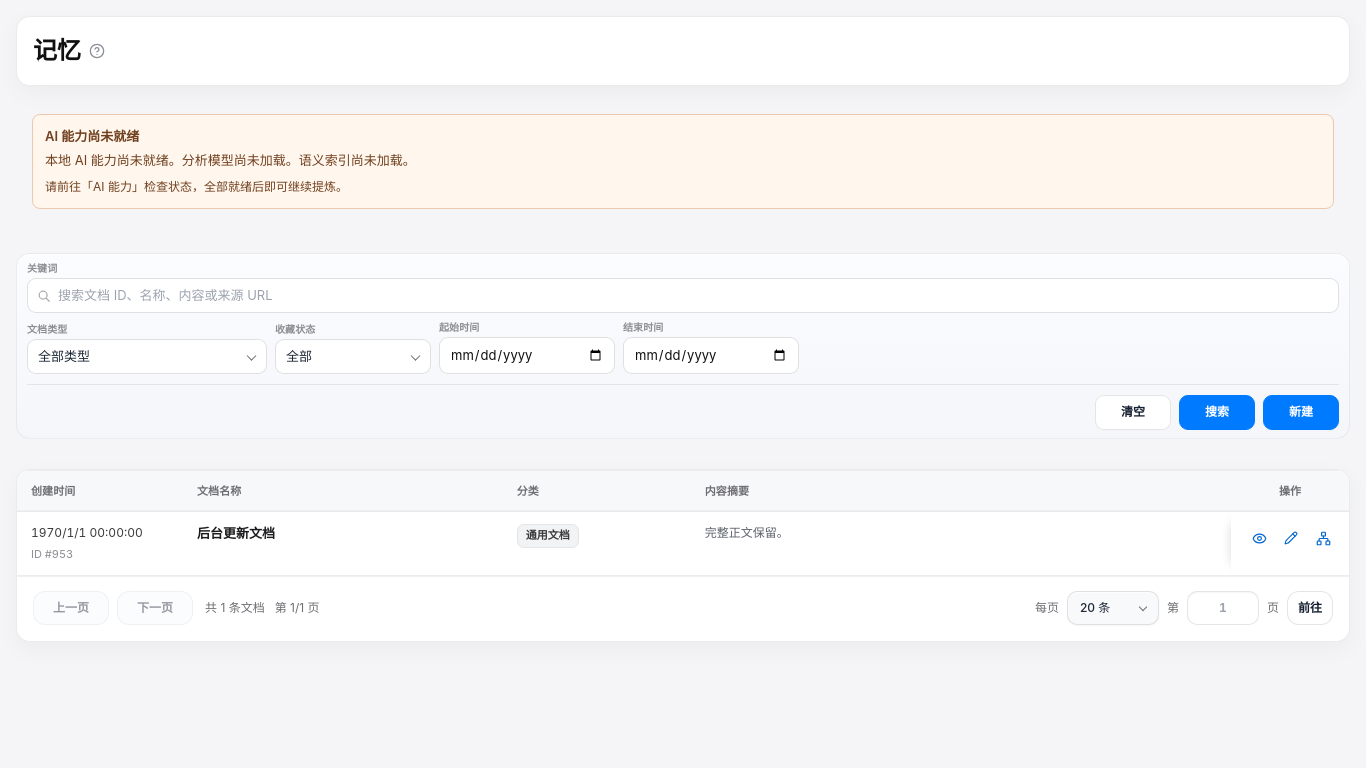
Test case: 显式搜索交互 › 相同筛选条件再次搜索文档会读取后台更新后的状态
The image size is (1366, 768).
Click the button named "查看文档「后台更新文档」详情" at (1259, 538), box x1=1245 y1=524 x2=1273 y2=552
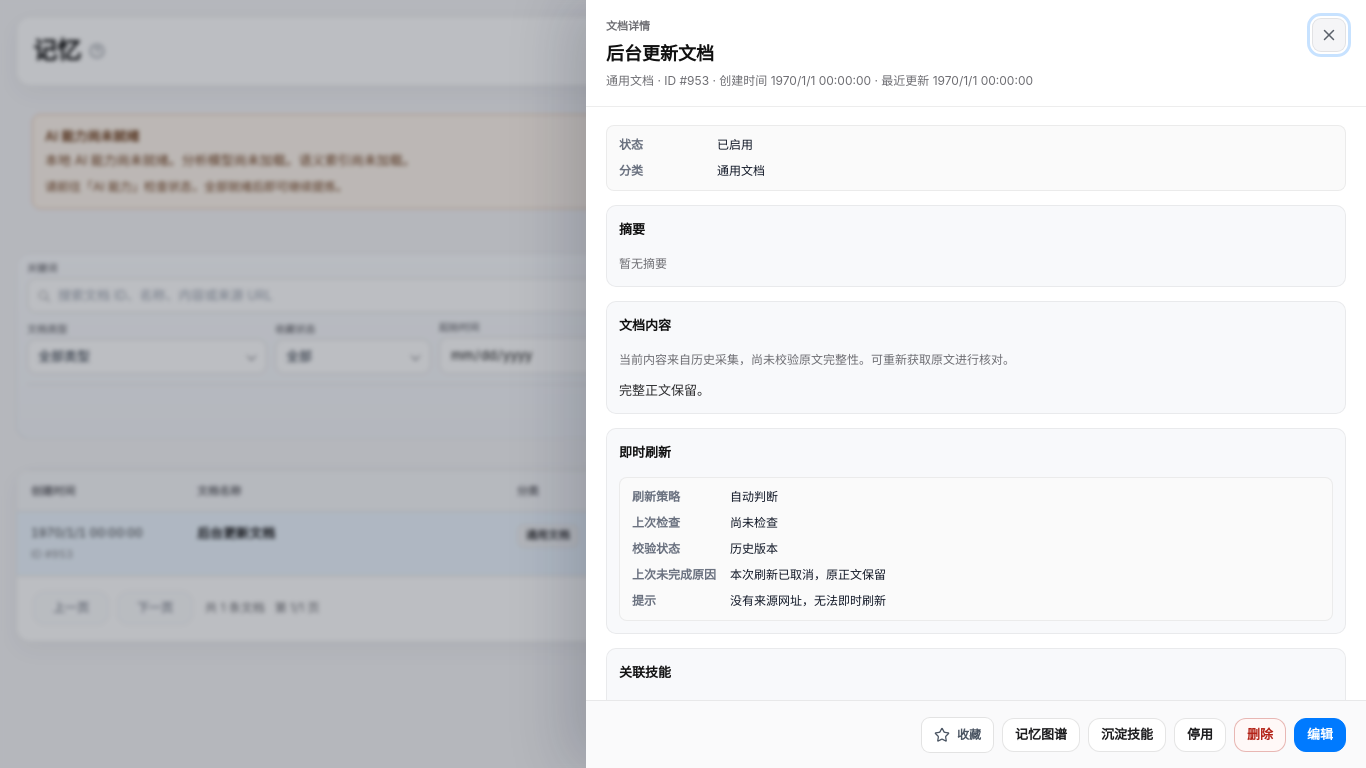
Now the text "本次刷新已取消，原正文保留" is shown, box x1=730 y1=567 x2=886 y2=582
Click the button named "关闭文档详情" at (1329, 35), box x1=1312 y1=18 x2=1346 y2=52
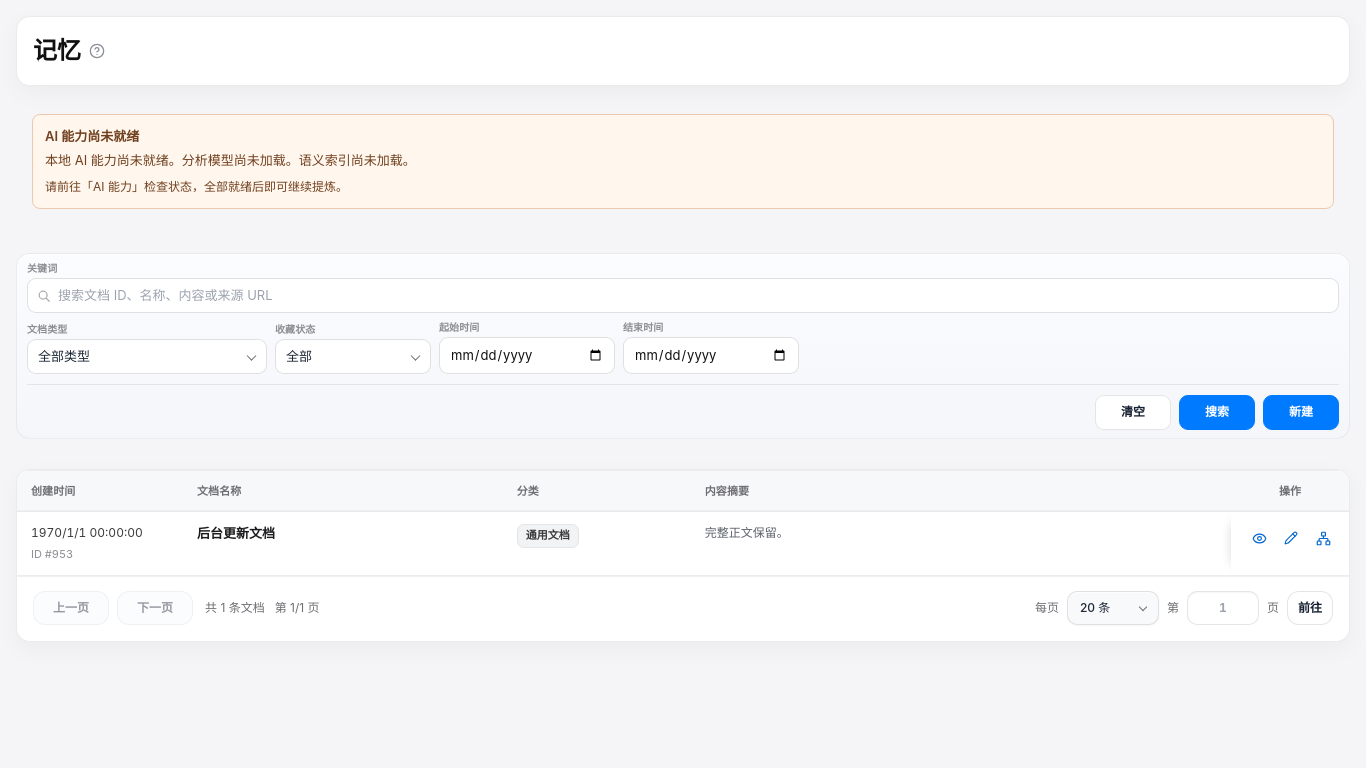
Click the button "搜索" at (1217, 412), box x1=1179 y1=395 x2=1255 y2=430
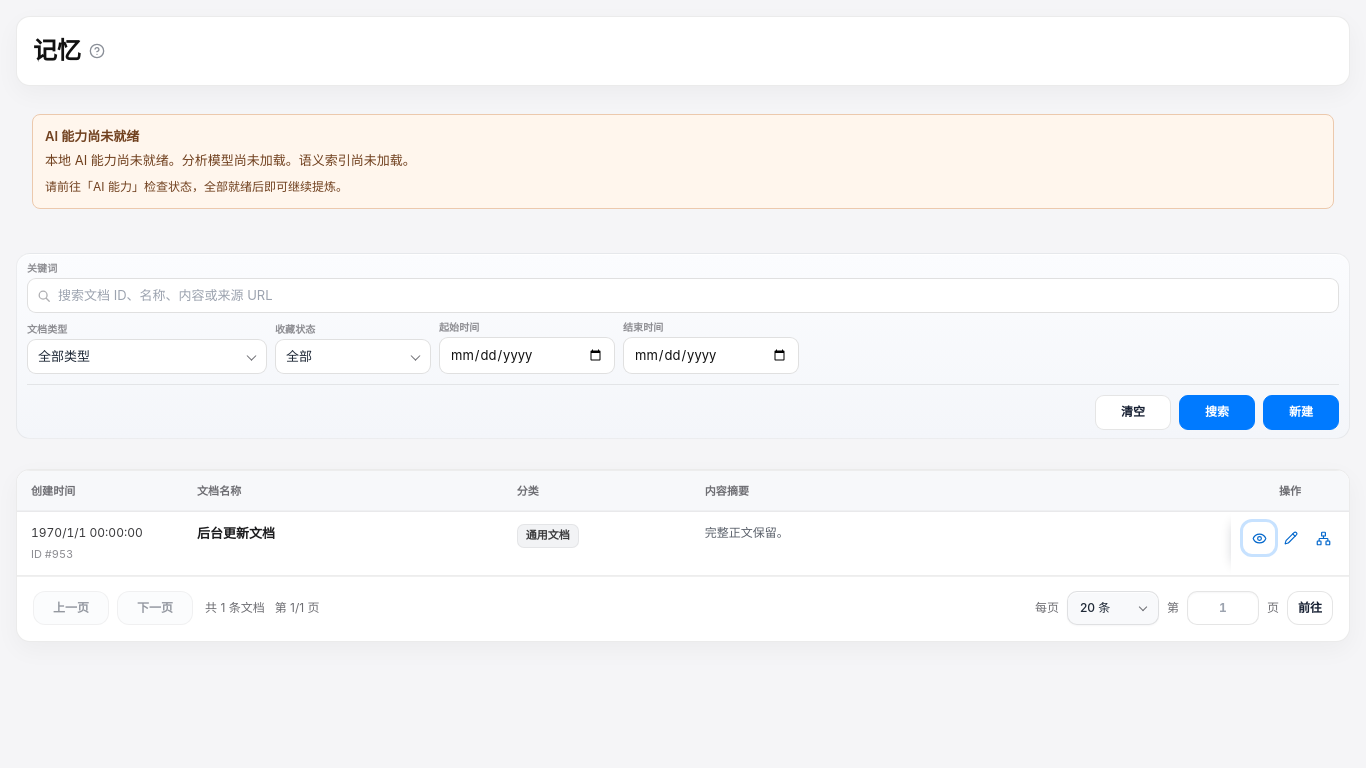
Click the button named "查看文档「后台更新文档」详情" at (1259, 538), box x1=1245 y1=524 x2=1273 y2=552
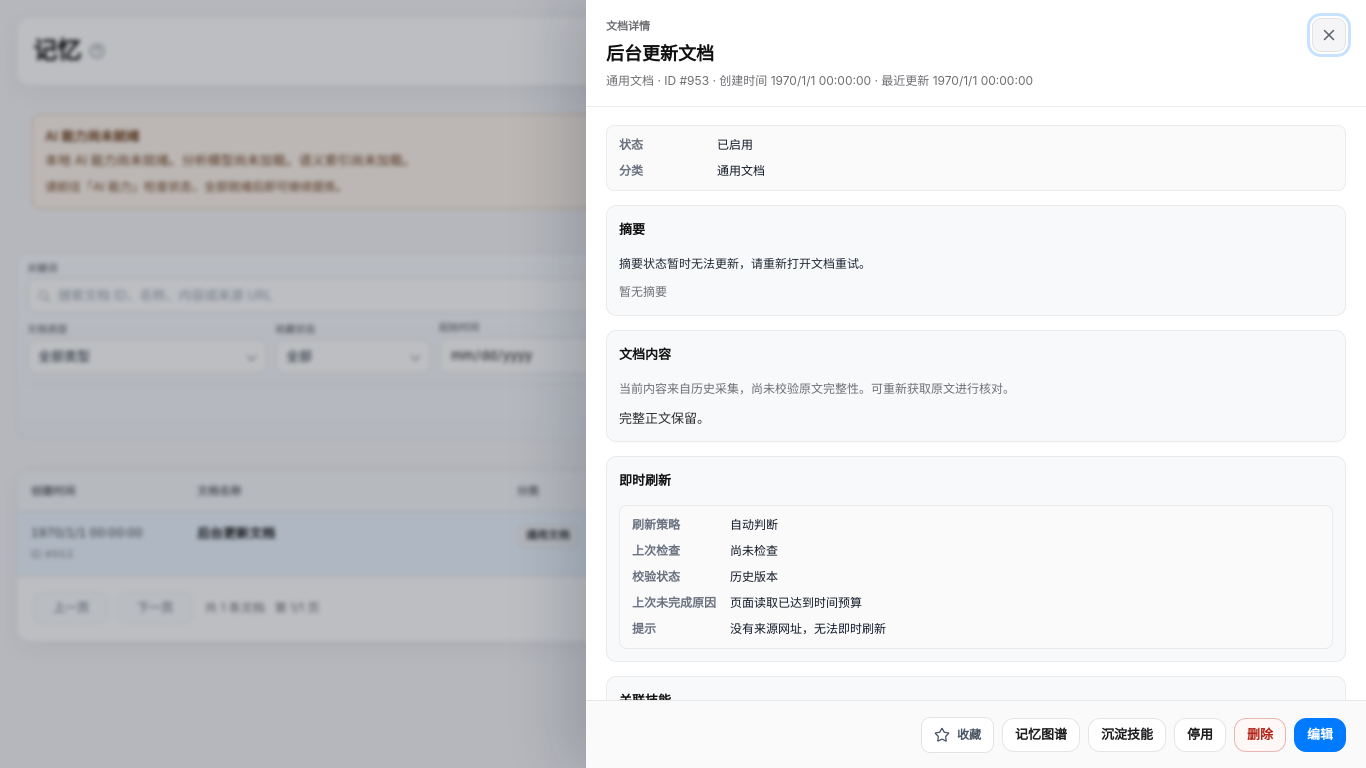
Expected: the text "本次刷新已取消，原正文保留" is not shown
Now the text "页面读取已达到时间预算" is shown, box x1=730 y1=595 x2=862 y2=610
